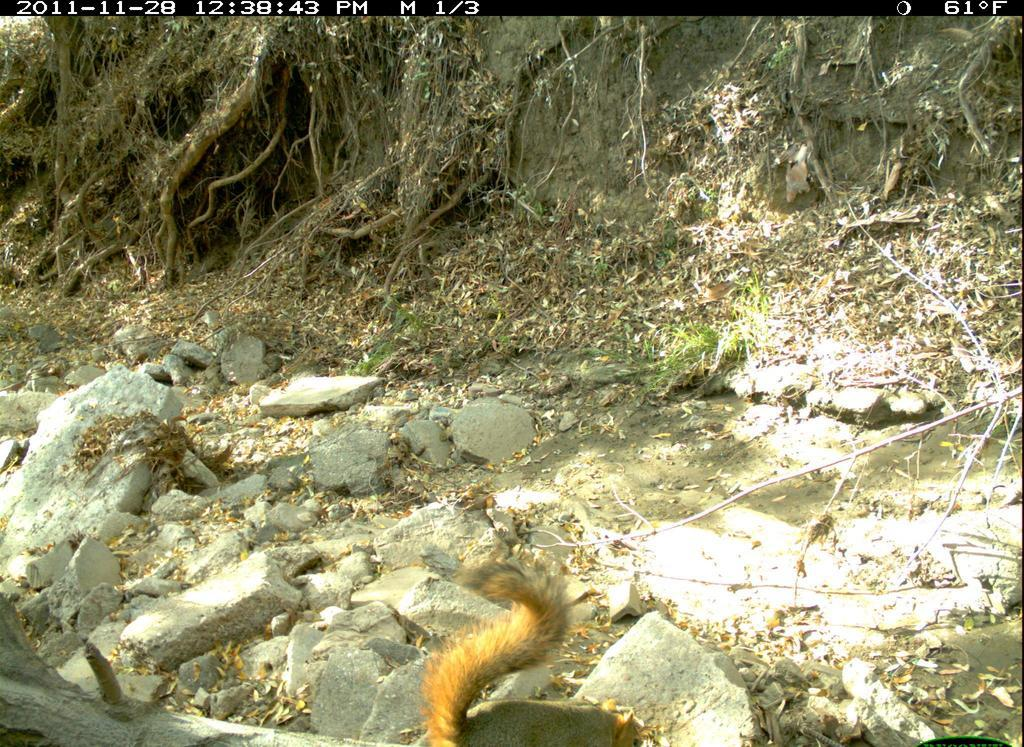squirrel: (409, 532, 661, 747)
